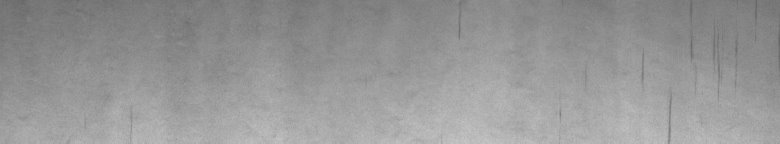ka: (641, 4, 757, 136)
